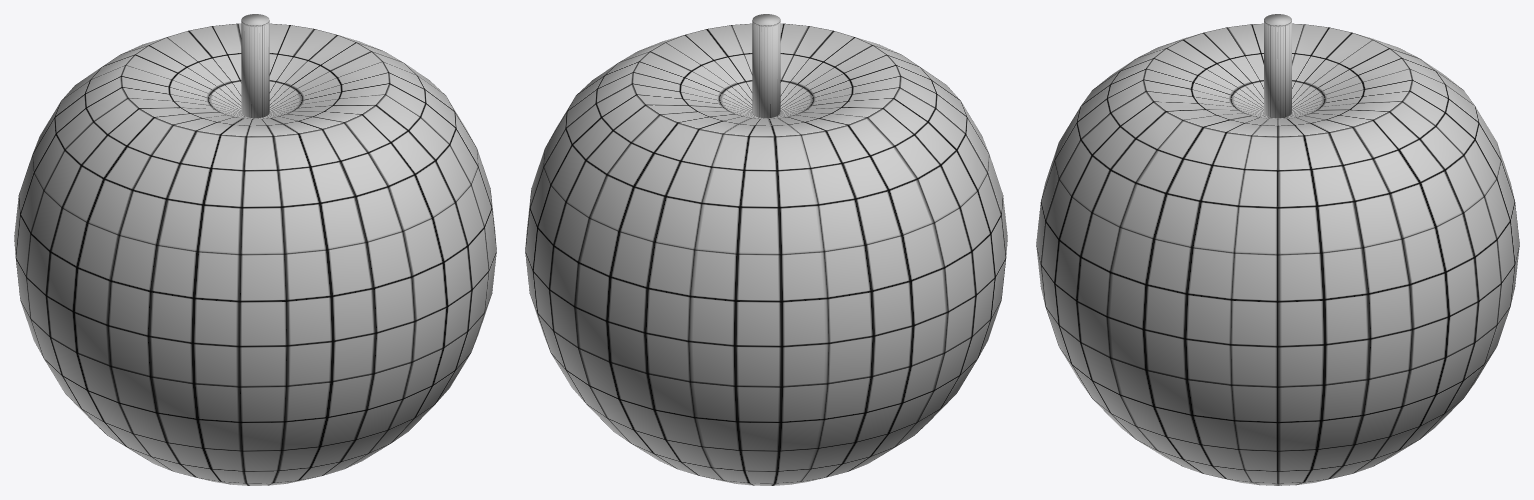
The model's file is apple.obj.
3 renders of one model, left to right at view 1: azimuth 30°, elevation 25°; view 2: azimuth 150°, elevation 25°; view 3: azimuth 270°, elevation 25°, orthographic.
Parts seen in each view (by area): view 1: 球; view 2: 球; view 3: 球.
Part boxes in pixels (x1,y1,x2,y2): 球: (14,14,496,485); 球: (525,14,1007,485); 球: (1036,14,1519,485).
Size of the model in its own units: 4 by 3.91 by 4.
Materials: 1 (1 with a texture image).
